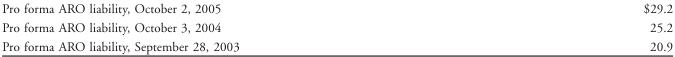table: (1, 0, 672, 53)
table column: (1, 0, 440, 53), (440, 0, 672, 53)
table row: (1, 17, 672, 36), (1, 0, 672, 17), (1, 36, 672, 53)
